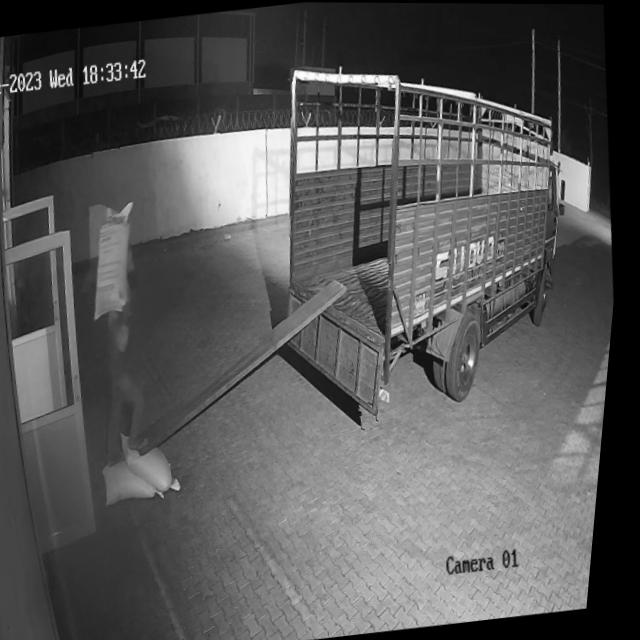sack: (85, 199, 150, 319), (123, 425, 193, 495), (108, 456, 175, 504)
